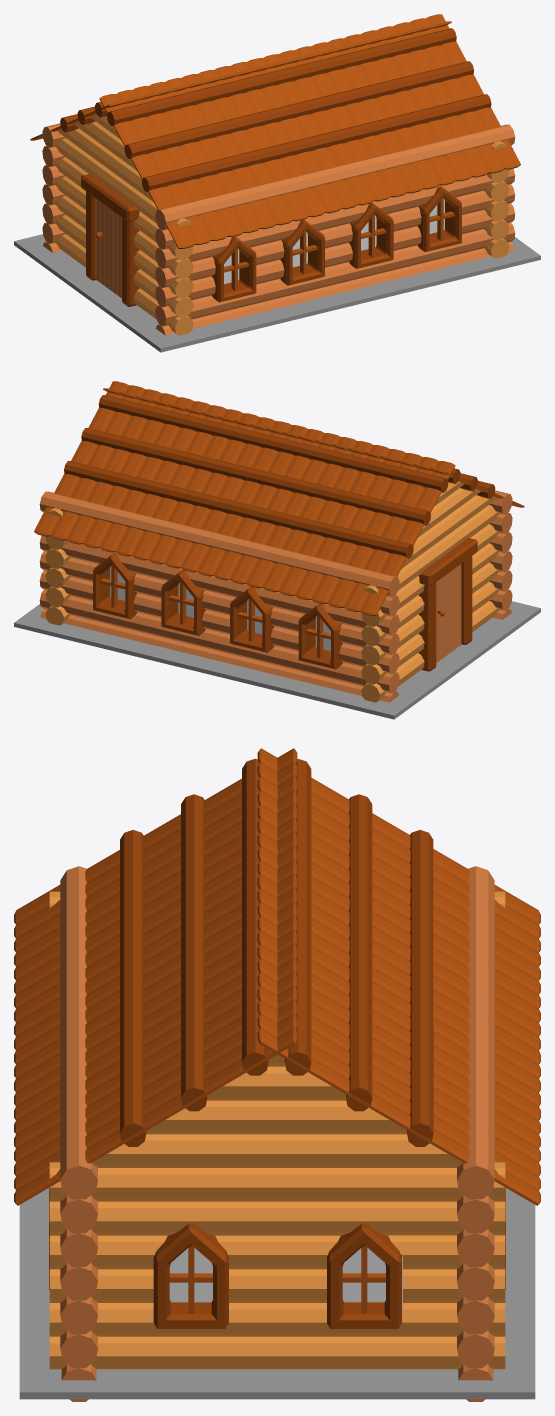
The model's file is Barrack.fbx.
3 views of the same model, one above another, from view 1: azimuth 30°, elevation 25°; view 2: azimuth 150°, elevation 25°; view 3: azimuth 270°, elevation 25° (orthographic). The views are drawn at different scales.
Parts seen in each view (by area): view 1: Cube.003, Cylinder.001, Cylinder.003, Cylinder, Cube, Cube.004, Cube.019_Cube.017, Cube.018_Cube.016, Cube.005, Cube.021_Cube.019, Cube.006; view 2: Cube.003, Cylinder.001, Cylinder.003, Cylinder, Cube, Cube.004, Cube.019_Cube.017, Cube.018_Cube.016, Cube.005, Cube.021_Cube.019, Cube.006; view 3: Cube.003, Cylinder, Cylinder.003, Cylinder.001, Cube, Cube.001, Cube.006, Cube.002.
Part boxes in pixels (x1,y1,x2,y2): Cube.003: (30,14,520,248); Cylinder.001: (42,123,515,335); Cylinder.003: (60,28,491,192); Cylinder: (55,114,509,335); Cube: (14,234,540,352); Cube.004: (212,186,461,302); Cube.019_Cube.017: (86,191,139,306); Cube.018_Cube.016: (96,199,121,298); Cube.005: (224,198,454,290); Cube.021_Cube.019: (81,174,139,221); Cube.006: (224,199,444,283); Cube.003: (34,381,524,615); Cylinder.001: (39,490,512,702); Cylinder.003: (64,395,495,558); Cylinder: (45,481,499,702); Cube: (14,601,540,719); Cube.004: (93,553,342,669); Cube.019_Cube.017: (418,556,472,671); Cube.018_Cube.016: (436,564,461,662); Cube.005: (100,565,330,657); Cube.021_Cube.019: (419,538,477,585); Cube.006: (110,566,330,650); Cube.003: (14,748,540,1205); Cylinder: (49,891,505,1369); Cylinder.003: (120,758,433,1146); Cylinder.001: (60,866,494,1401); Cube: (19,1188,535,1399); Cube.001: (153,1223,401,1328); Cube.006: (169,1248,402,1311); Cube.002: (169,1246,385,1313).
Size of the model in its own units: 2857 by 1453 by 1951.
